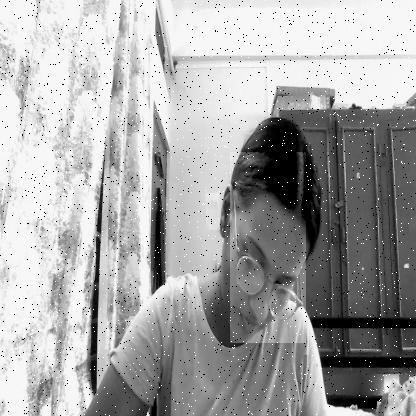Distracted: (230, 152, 306, 343)
